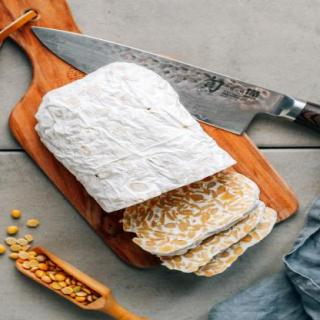Tempe: (34, 61, 236, 214), (118, 171, 279, 280)
